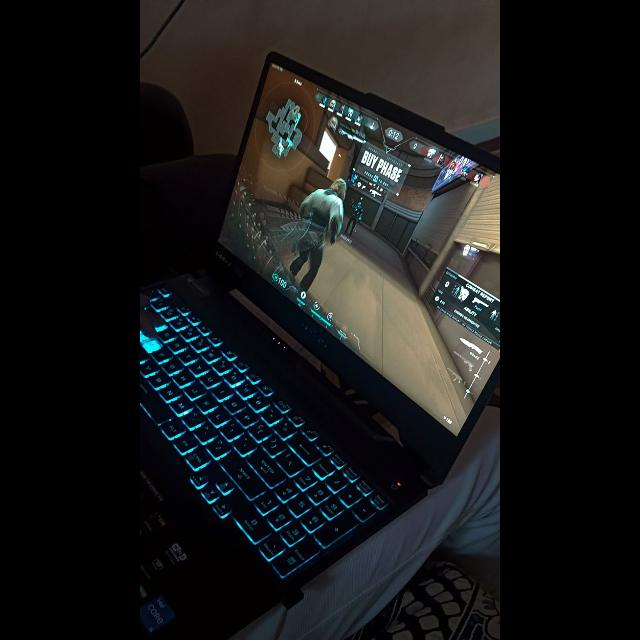laptop: (140, 52, 500, 640)
